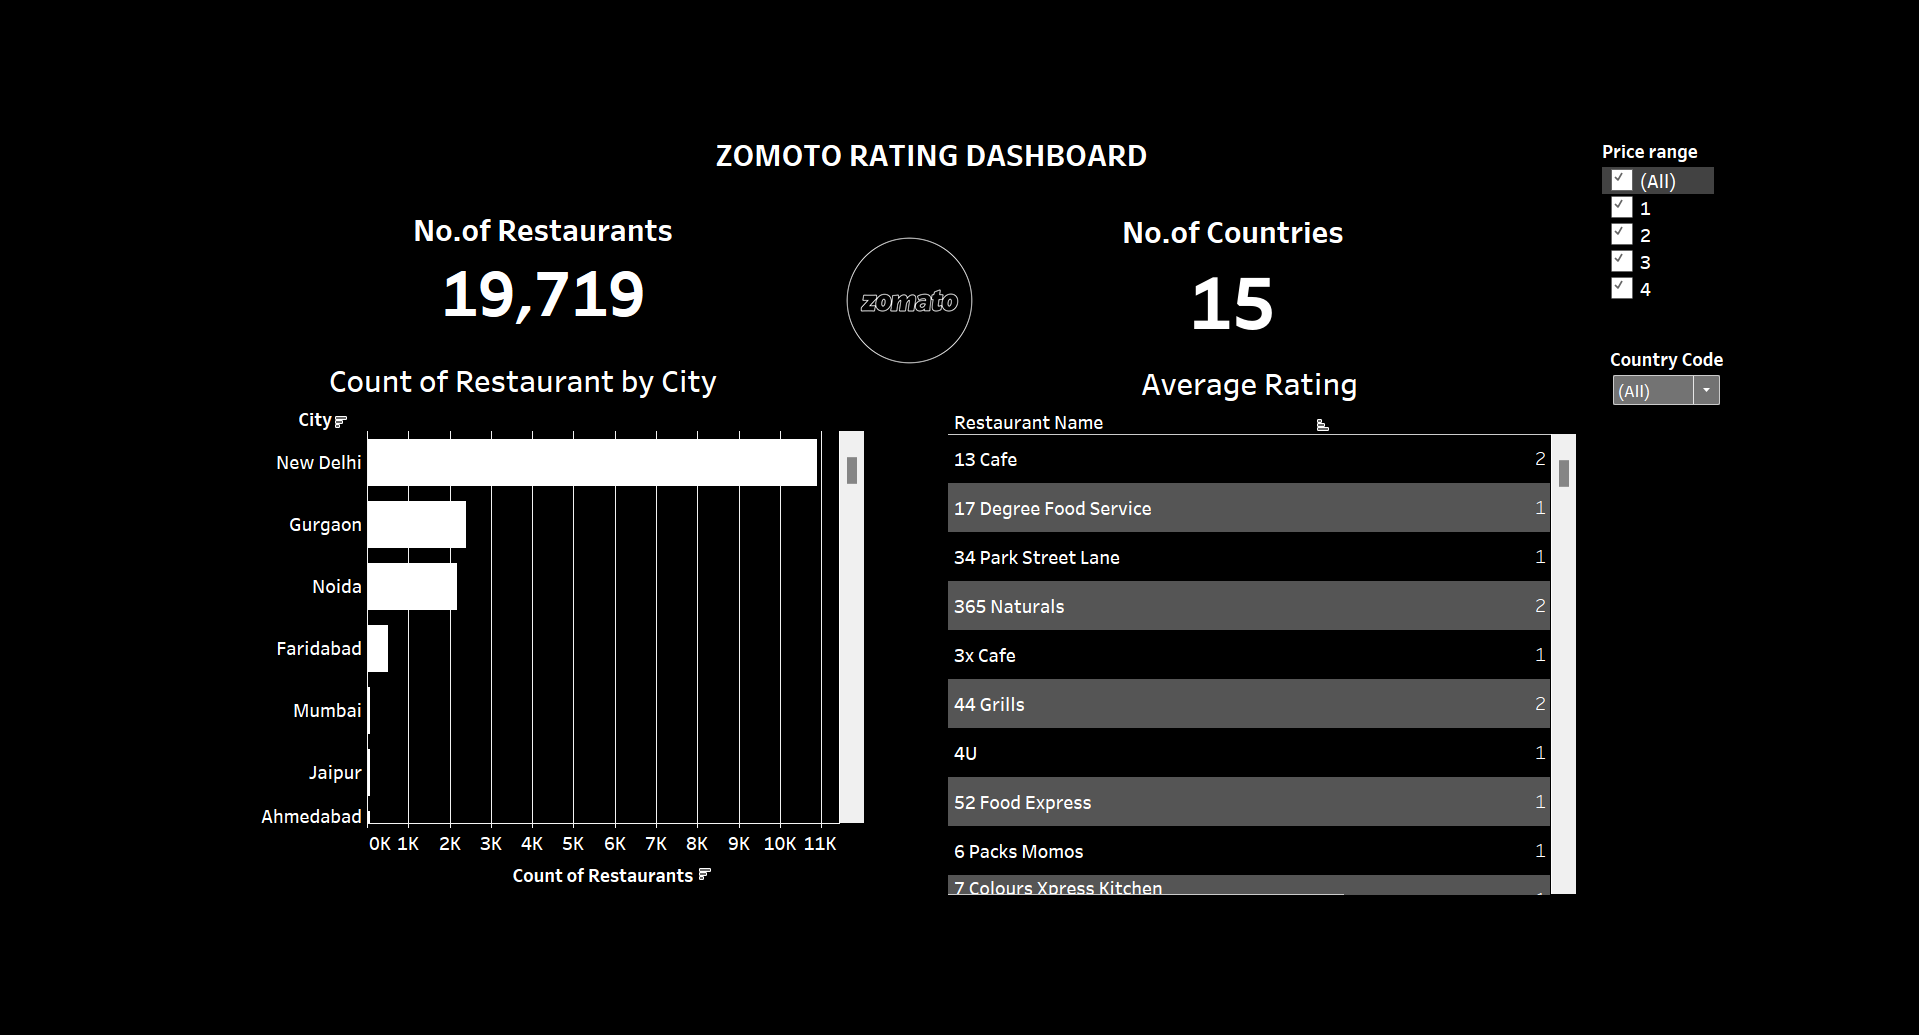

This screenshot's page, from the dashboard's own definition file:
{"tool":"tableau","page":{"name":"Dashboard 1","canvas":[1578,806],"ordinal":0},"visuals":[{"type":"filter","title":"Sheet 1","param":"[federated.0h7y0d809r0s1p1349chh0pzl8af].[none:Price range:ok]","box":[1427,20,120,180]},{"type":"worksheet","title":"Sheet 3","mark":"Automatic","box":[47,91,651,132]},{"type":"worksheet","title":"Sheet 4","mark":"Automatic","box":[816,93,493,150]},{"type":"image","param":"C:/Users/Admin/Downloads/[CITYPNG.COM]Zomato Outline White Logo Icon - 3500x3500","box":[618,105,240,162]},{"type":"filter","title":"Sheet 1","param":"[federated.0h7y0d809r0s1p1349chh0pzl8af].[none:Country Code:ok]","box":[1435,228,121,121]},{"type":"worksheet","title":"Sheet 1","mark":"Automatic","rows":["City"],"cols":["Cleaned Zomato Dataset.csv_B8D82DA86CA14E8FA625A40C50E317C8"],"box":[32,237,665,547]},{"type":"worksheet","title":"Sheet 2","mark":"Automatic","rows":["Restaurant Name"],"box":[773,240,641,545]}]}

Visuals, with their boxes on the page's 1578x806 design canvas (x1, y1, x2, y2). These are canvas units, not pixel positions in the 1919x1035 screenshot, which may show the page scaled, cropped or inside an application window:
"Sheet 1" filter: detection(1427, 20, 1547, 200)
"Sheet 3" worksheet: detection(47, 91, 698, 223)
"Sheet 4" worksheet: detection(816, 93, 1309, 243)
image: detection(618, 105, 858, 267)
"Sheet 1" filter: detection(1435, 228, 1556, 349)
"Sheet 1" worksheet: detection(32, 237, 697, 784)
"Sheet 2" worksheet: detection(773, 240, 1414, 785)
